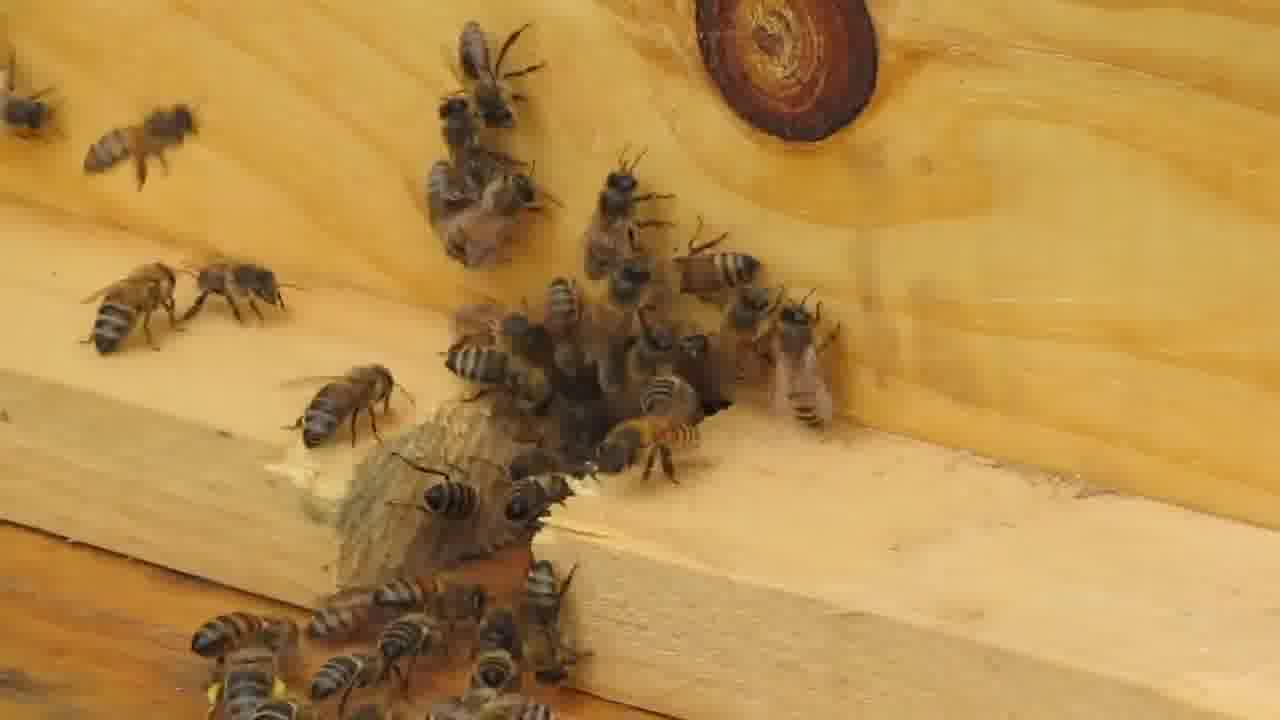pollen: (203, 638, 292, 715)
